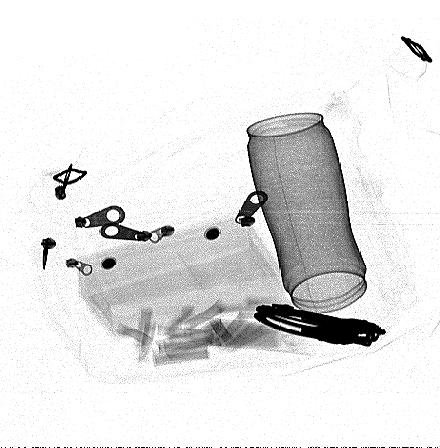HandCuffs: (253, 303, 387, 347)
